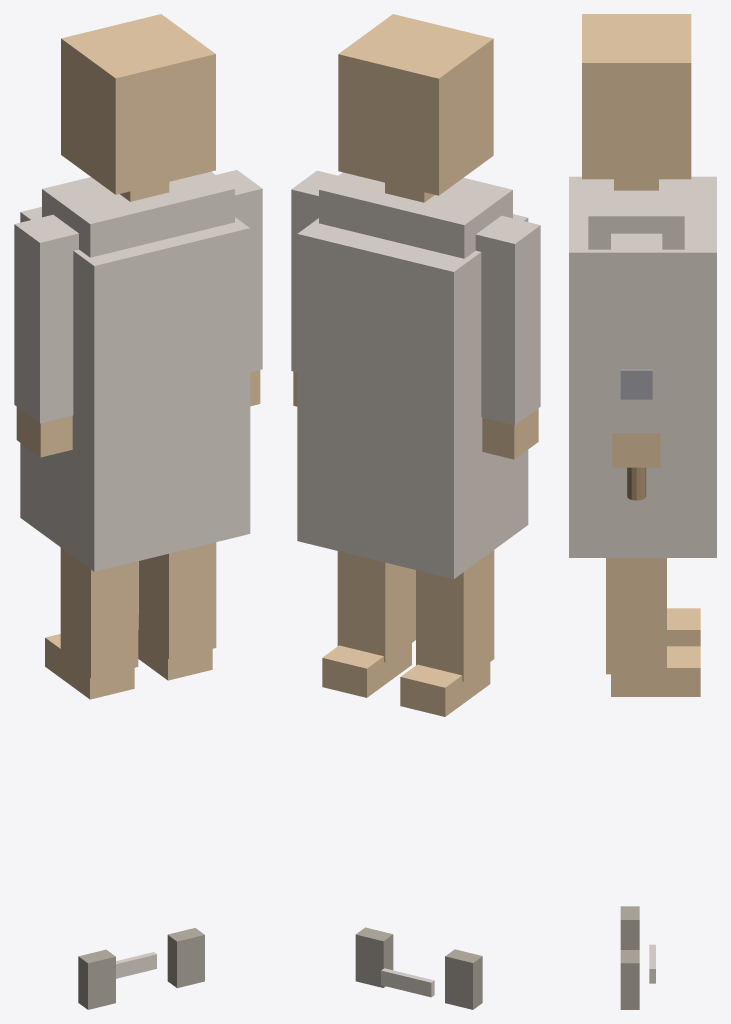
File: andromeda.glb
3 views of the same model, side by side, from view 1: azimuth 30°, elevation 25°; view 2: azimuth 150°, elevation 25°; view 3: azimuth 270°, elevation 25° (orthographic).
Parts seen in each view (by area): view 1: outfit_tunic_0, head, arm_L_upper, torso, leg_L_shin, leg_R_shin, arm_R_upper, leg_L_foot, outfit_sandals_0, outfit_sandals_1, arm_L_hand, leg_R_foot (+1 smaller); view 2: outfit_tunic_0, head, arm_L_upper, torso, leg_L_shin, leg_R_shin, leg_L_foot, leg_R_foot, arm_R_upper, outfit_sandals_0, arm_L_hand, outfit_sandals_1 (+1 smaller); view 3: outfit_tunic_0, head, arm_R_upper, leg_R_shin, torso, leg_R_foot, arm_R_hand, prop, leg_L_foot, outfit_sandals_1, outfit_sandals_0, neck.
Boxes of the visible parts, x1=… form: outfit_tunic_0: x1=20, y1=207, x2=250, y2=571; head: x1=61, y1=14, x2=215, y2=194; arm_L_upper: x1=14, y1=214, x2=78, y2=423; torso: x1=42, y1=171, x2=234, y2=257; leg_L_shin: x1=60, y1=547, x2=138, y2=678; leg_R_shin: x1=138, y1=542, x2=216, y2=659; arm_R_upper: x1=216, y1=170, x2=262, y2=371; leg_L_foot: x1=45, y1=634, x2=134, y2=699; outfit_sandals_0: x1=78, y1=949, x2=115, y2=1009; outfit_sandals_1: x1=167, y1=928, x2=204, y2=988; arm_L_hand: x1=16, y1=407, x2=72, y2=457; leg_R_foot: x1=138, y1=615, x2=212, y2=680; outfit_tunic_0: x1=297, y1=214, x2=528, y2=579; head: x1=338, y1=14, x2=493, y2=195; arm_L_upper: x1=475, y1=215, x2=540, y2=425; torso: x1=319, y1=172, x2=512, y2=258; leg_L_shin: x1=416, y1=550, x2=494, y2=681; leg_R_shin: x1=337, y1=551, x2=415, y2=662; leg_L_foot: x1=400, y1=662, x2=490, y2=716; leg_R_foot: x1=322, y1=643, x2=411, y2=697; arm_R_upper: x1=291, y1=170, x2=337, y2=372; outfit_sandals_0: x1=445, y1=949, x2=482, y2=1009; arm_L_hand: x1=482, y1=408, x2=538, y2=459; outfit_sandals_1: x1=355, y1=927, x2=393, y2=987; outfit_tunic_0: x1=569, y1=176, x2=716, y2=557; head: x1=582, y1=14, x2=691, y2=179; arm_R_upper: x1=611, y1=233, x2=662, y2=433; leg_R_shin: x1=606, y1=558, x2=666, y2=674; torso: x1=588, y1=179, x2=684, y2=249; leg_R_foot: x1=611, y1=646, x2=700, y2=696; arm_R_hand: x1=612, y1=433, x2=660, y2=467; prop: x1=620, y1=369, x2=652, y2=500; leg_L_foot: x1=667, y1=608, x2=700, y2=646; outfit_sandals_1: x1=620, y1=950, x2=639, y2=1009; outfit_sandals_0: x1=620, y1=906, x2=639, y2=949; neck: x1=614, y1=179, x2=658, y2=190.
Size of the model in its own units: 0.81 by 3.24 by 0.46.
